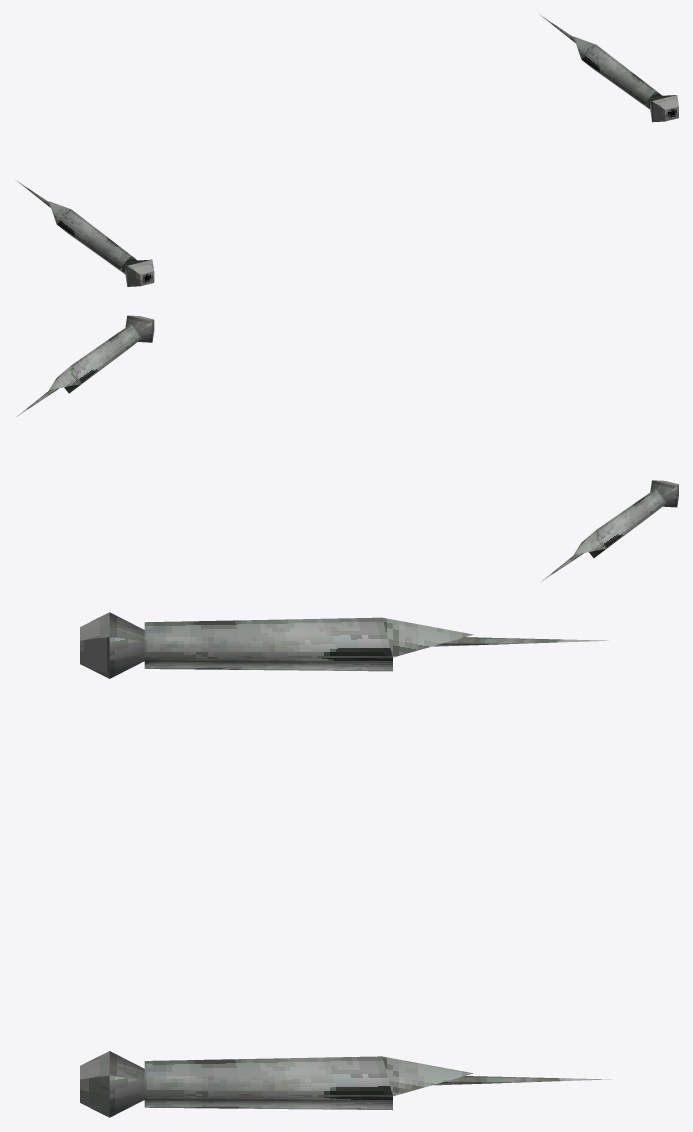
Rendered from xwing_weapon1_neg_s03_l3.fbx.
3 renders of one model, top to bottom at view 1: azimuth 30°, elevation 25°; view 2: azimuth 150°, elevation 25°; view 3: azimuth 270°, elevation 25°, orthographic. The views are drawn at different scales.
Parts seen in each view (by area): view 1: mesh_node; view 2: mesh_node; view 3: mesh_node.
Part boxes in pixels (left/top/right/bottom): mesh_node: left=16, top=14, right=678, bottom=286; mesh_node: left=16, top=315, right=678, bottom=582; mesh_node: left=80, top=612, right=611, bottom=1117.
Bounding box in the file's own units: 13.59 × 1.5 × 5.7.
